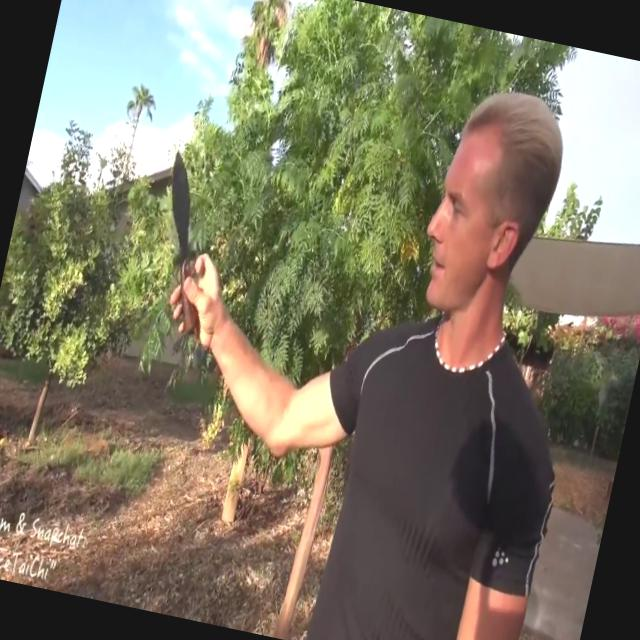knife: (124, 139, 248, 358)
